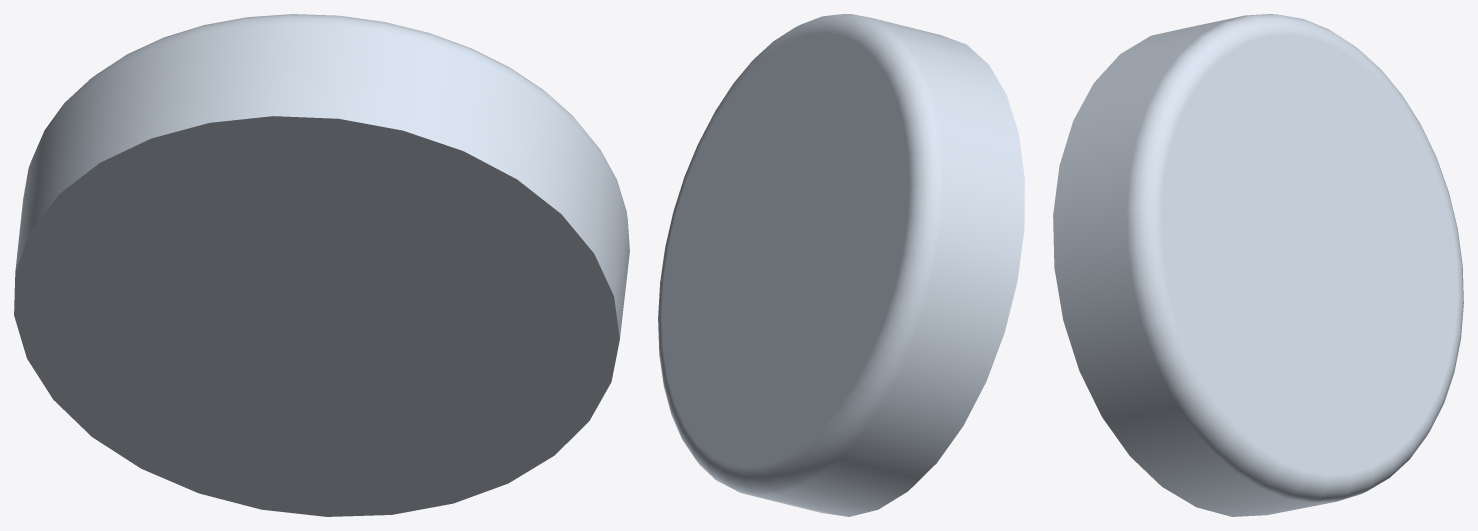
The model's file is RB-011_viewer.glb.
3 renders of one model, left to right at view 1: azimuth 30°, elevation 25°; view 2: azimuth 150°, elevation 25°; view 3: azimuth 270°, elevation 25°, orthographic. The views are drawn at different scales.
Visible parts, largest first — view 1: basebody_imported1; view 2: basebody_imported1; view 3: basebody_imported1.
Part boxes in pixels (x1,y1,x2,y2): basebody_imported1: (14,14,629,516); basebody_imported1: (658,14,1024,516); basebody_imported1: (1053,14,1463,516).
Size of the model in its own units: 0.00288 by 0.00299 by 0.00249.
